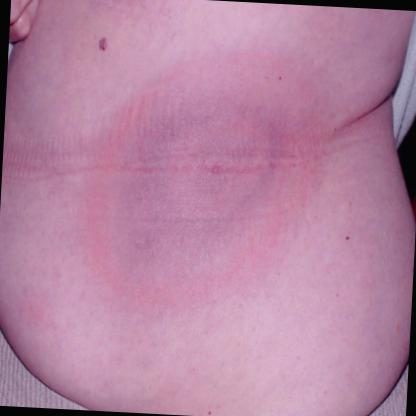Ringworm: (66, 26, 332, 324)
